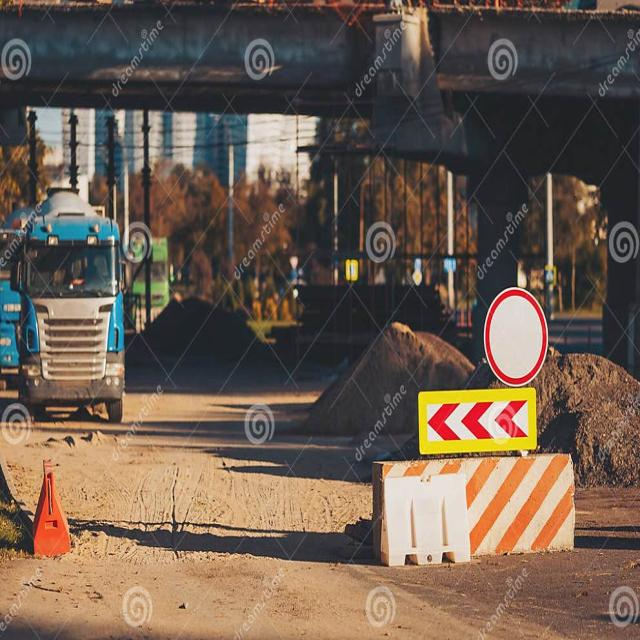cone: (370, 451, 576, 566)
